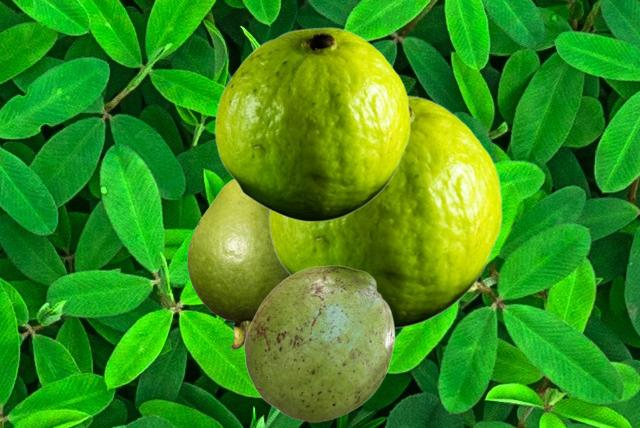guava: (268, 95, 501, 328), (214, 27, 409, 221), (243, 265, 394, 421), (187, 179, 288, 350)
